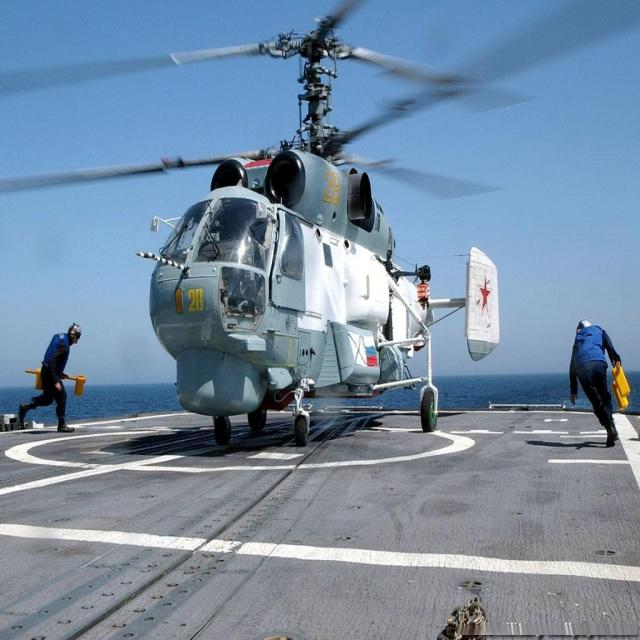MIL_HELO: (0, 0, 569, 450)
